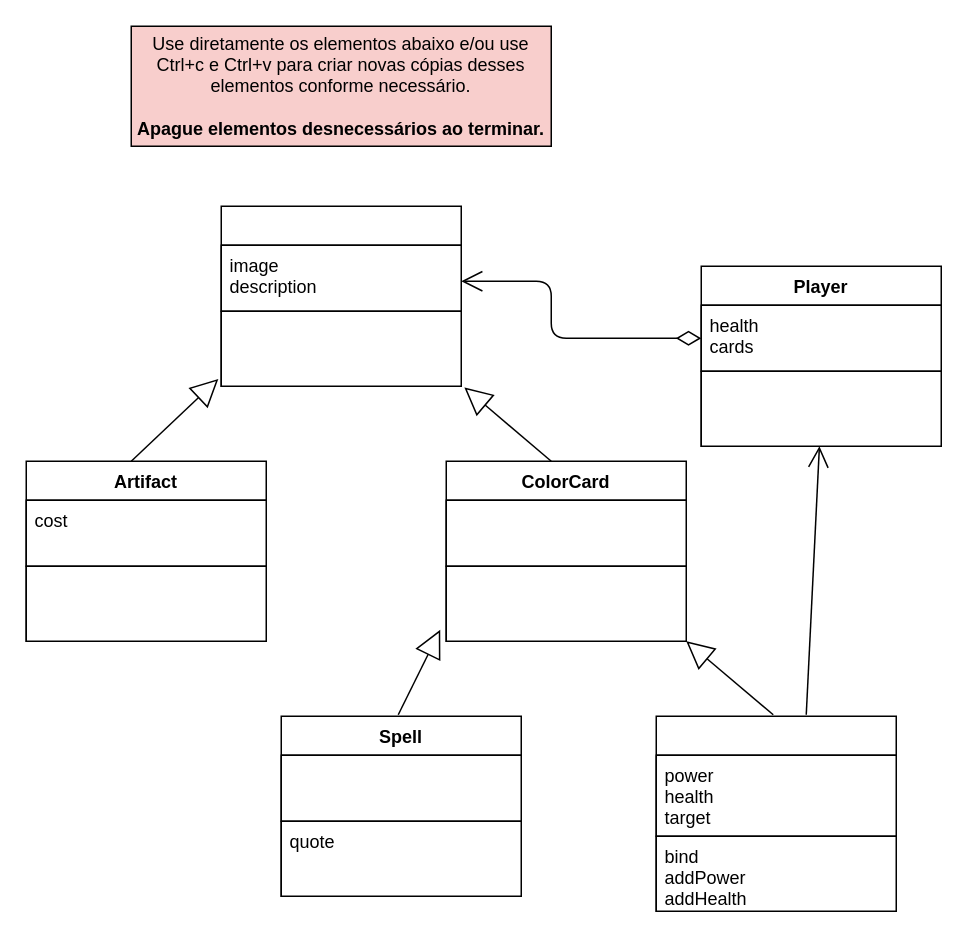
This 968x942 diagram has some shape labels left out. The box of each missing label's shape, as (x1, y1, x2, y2) in pixels:
buy use: (700, 370, 941, 446)
Card: (220, 205, 461, 386)
color cost: (445, 499, 686, 566)
colorName: (445, 565, 686, 641)
Creature: (655, 715, 896, 911)
